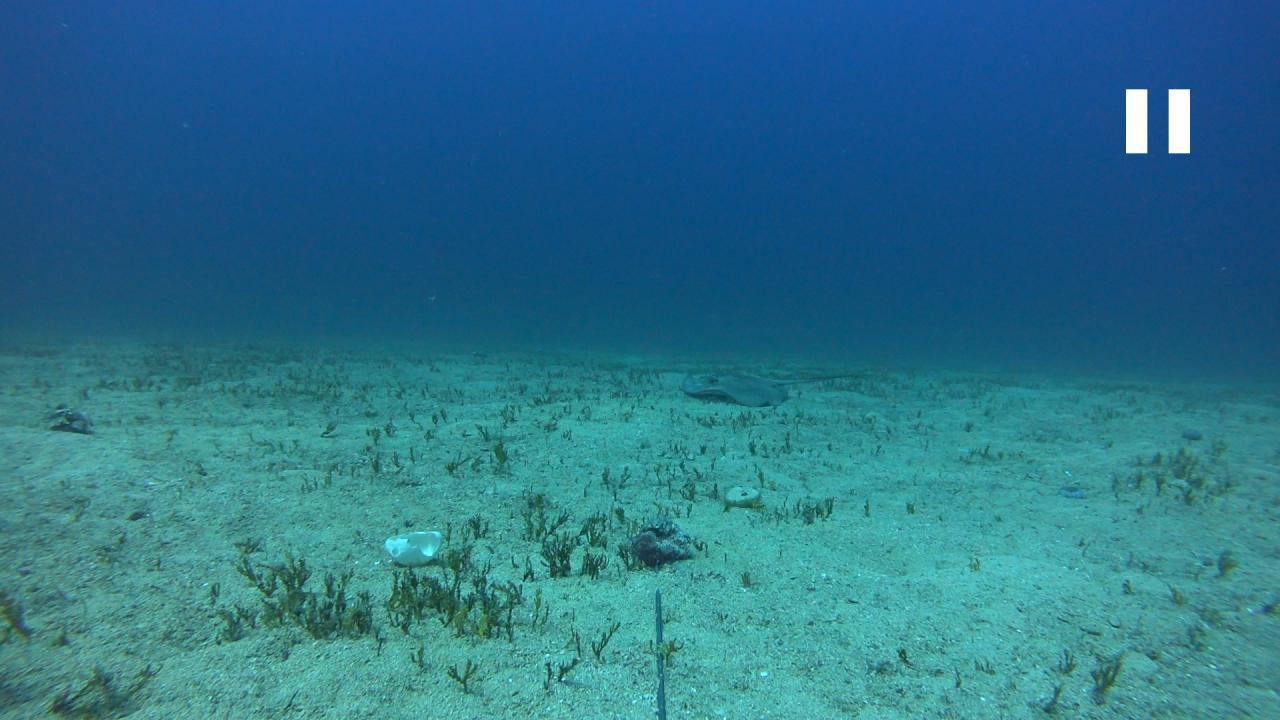dasyatis: (680, 370, 856, 405)
